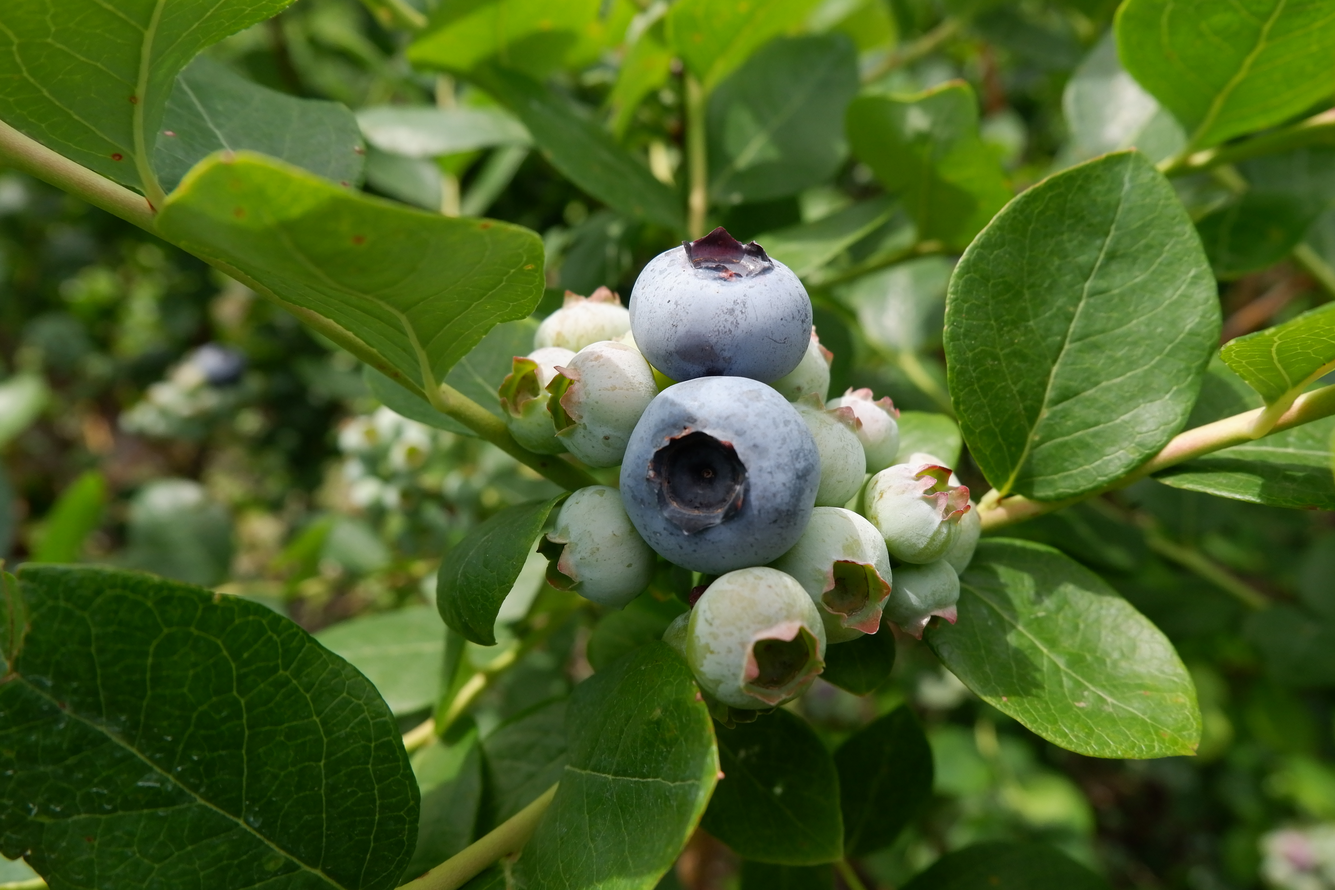Immature: (691, 567, 826, 711), (779, 510, 891, 643), (539, 488, 656, 606), (663, 609, 777, 730), (552, 342, 654, 465), (867, 466, 971, 564), (503, 350, 569, 452), (801, 406, 865, 504), (829, 391, 898, 469), (538, 289, 627, 349), (889, 561, 959, 634), (774, 336, 830, 407), (949, 505, 980, 572), (891, 453, 952, 470)
Mature: (626, 380, 822, 570), (630, 233, 813, 381)
